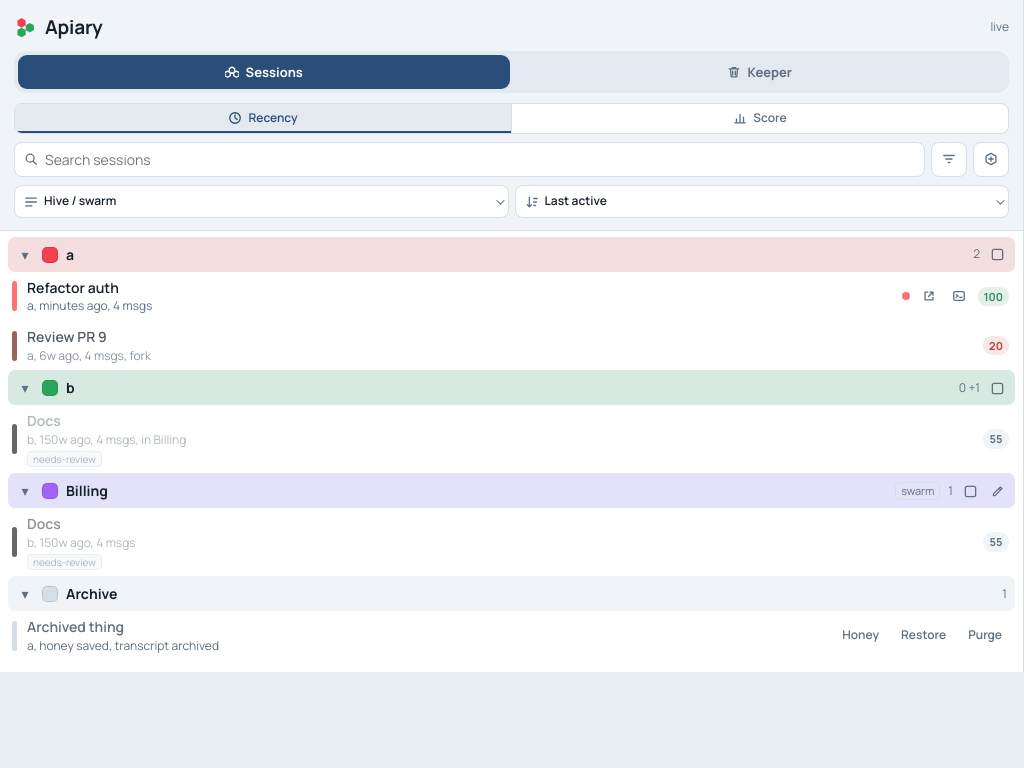
Test: the keeper lists candidates below the threshold, not the running one, and applies marks
Click the tab "Keeper" at {"x": 759, "y": 72}, box [514,55,1005,89]
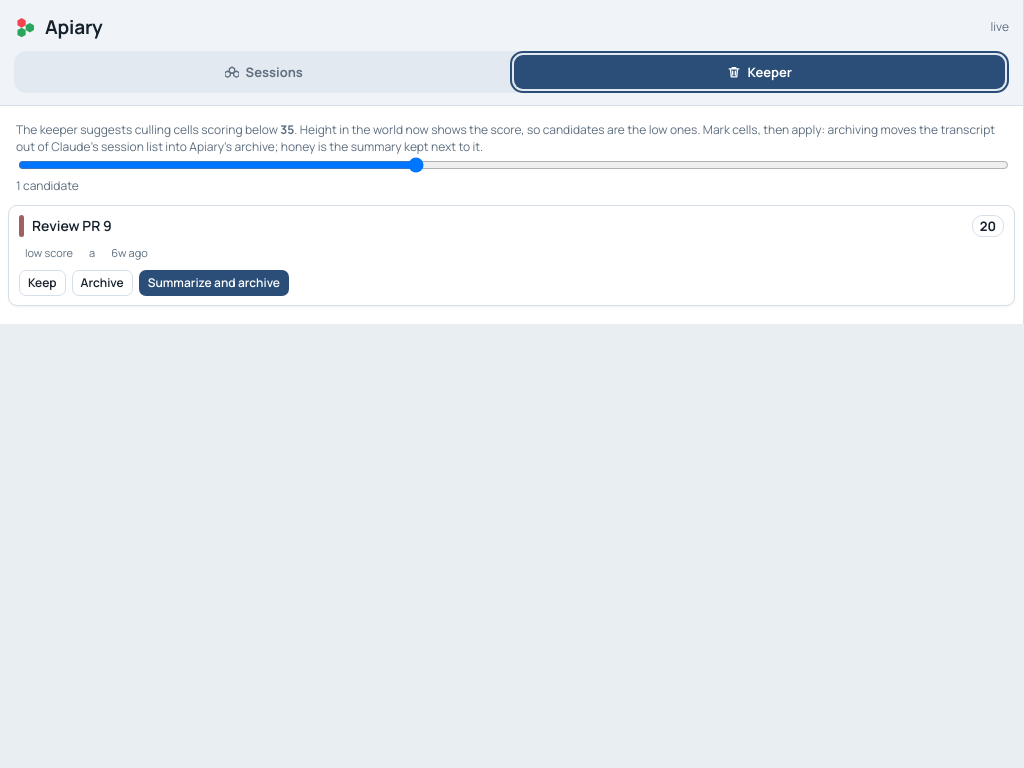
Expected: the text "Review PR 9" is shown, [32,216,112,235]
Result: the text "Refactor auth" is gone
Result: the text "1 candidate" is shown at [16,177,79,194]
Click the button "Archive" at {"x": 102, "y": 283}, box [72,270,133,296]
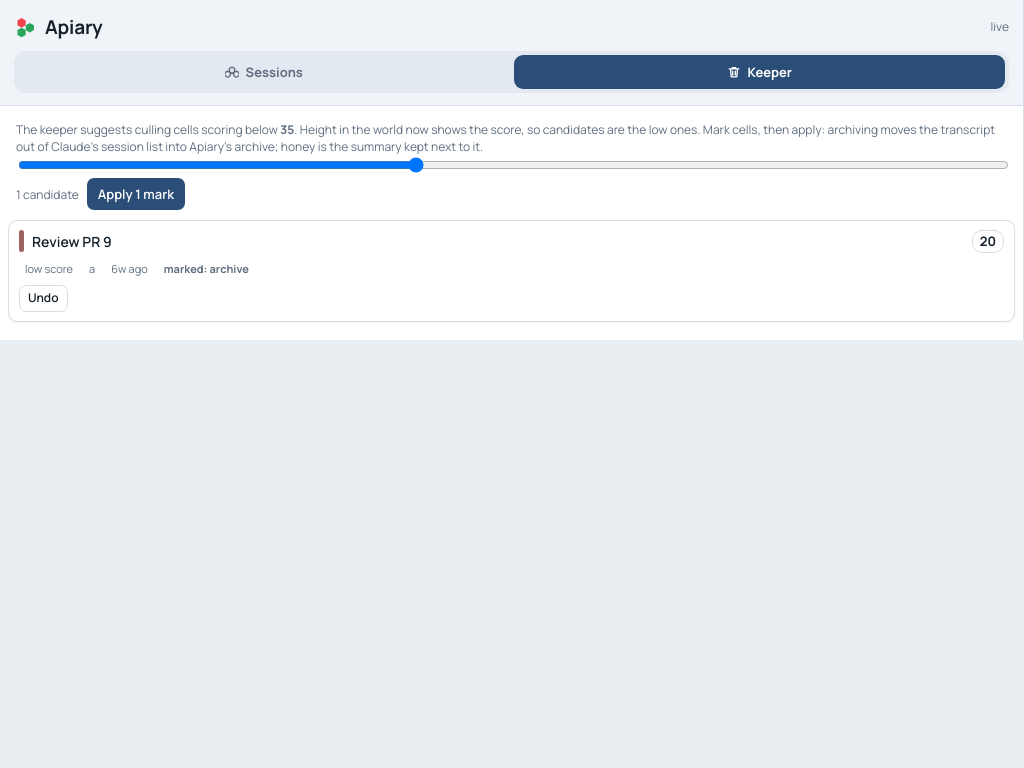
Click the button "Apply 1 mark" at {"x": 136, "y": 194}, box [87,178,185,210]
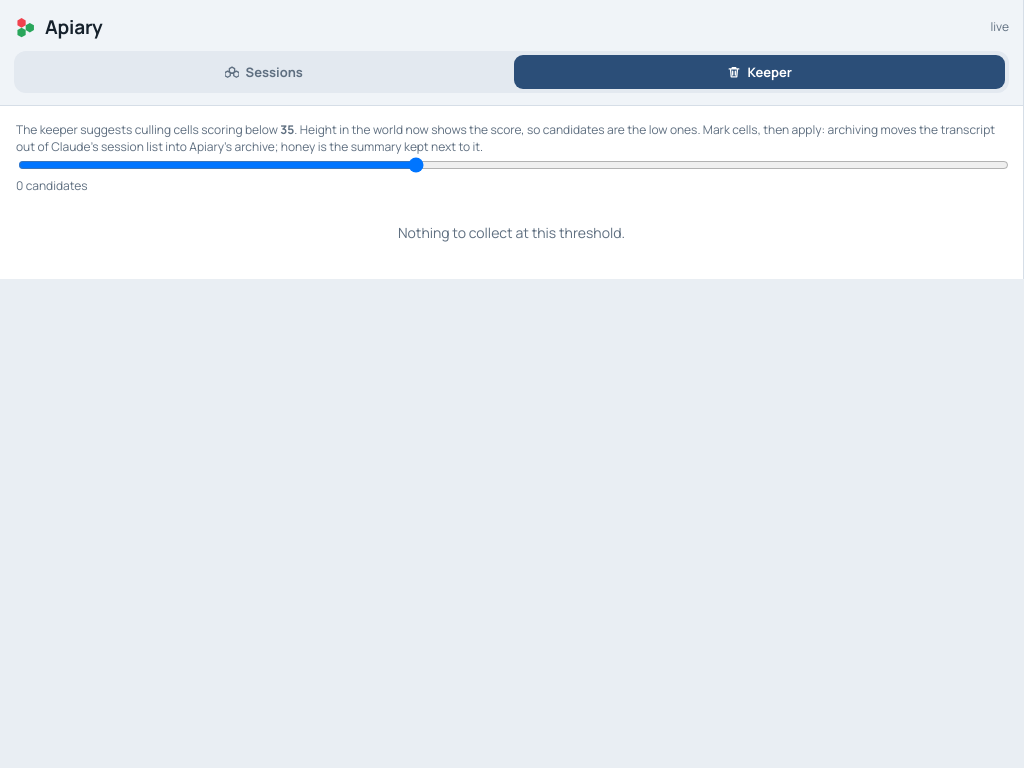
Result: the text "Nothing to collect at this threshold." is shown at [398,223,625,242]
